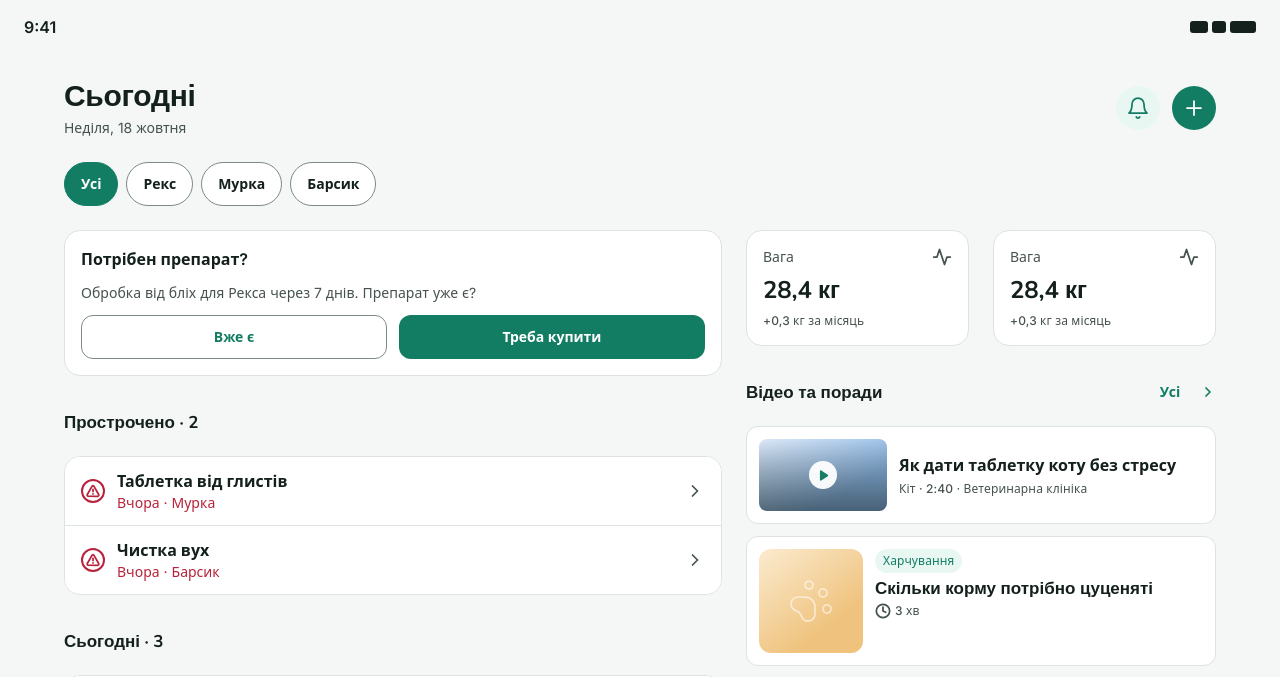
Екран «Сьогодні» › кнопки підказки про препарат замінюють вміст відповіддю
The image size is (1280, 677).
What coordinates should you click on to do the following:
click the button "Треба купити"
I would click on:
 (552, 337)
Its box is [399,315,705,359].
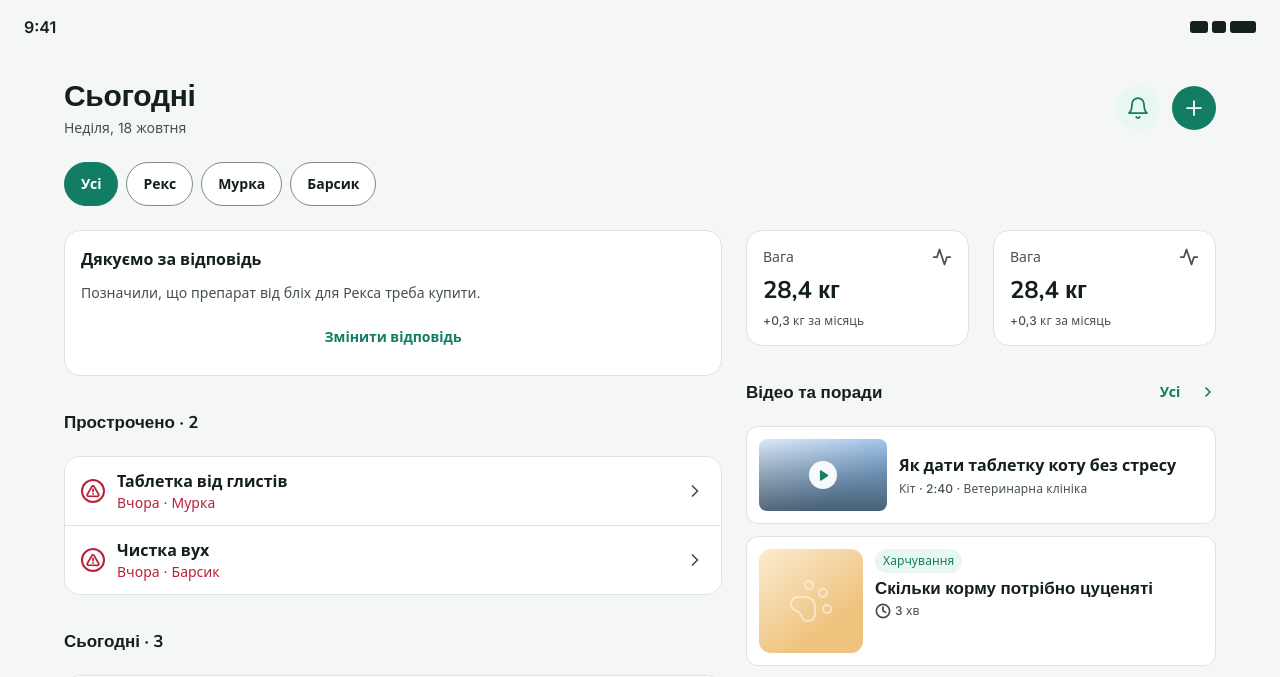
Check: the text "Позначили, що препарат від бліх для Рекса треба купити." is shown, box [81,284,480,301]
Check: the button "Змінити відповідь" is shown, box [81,315,705,359]
